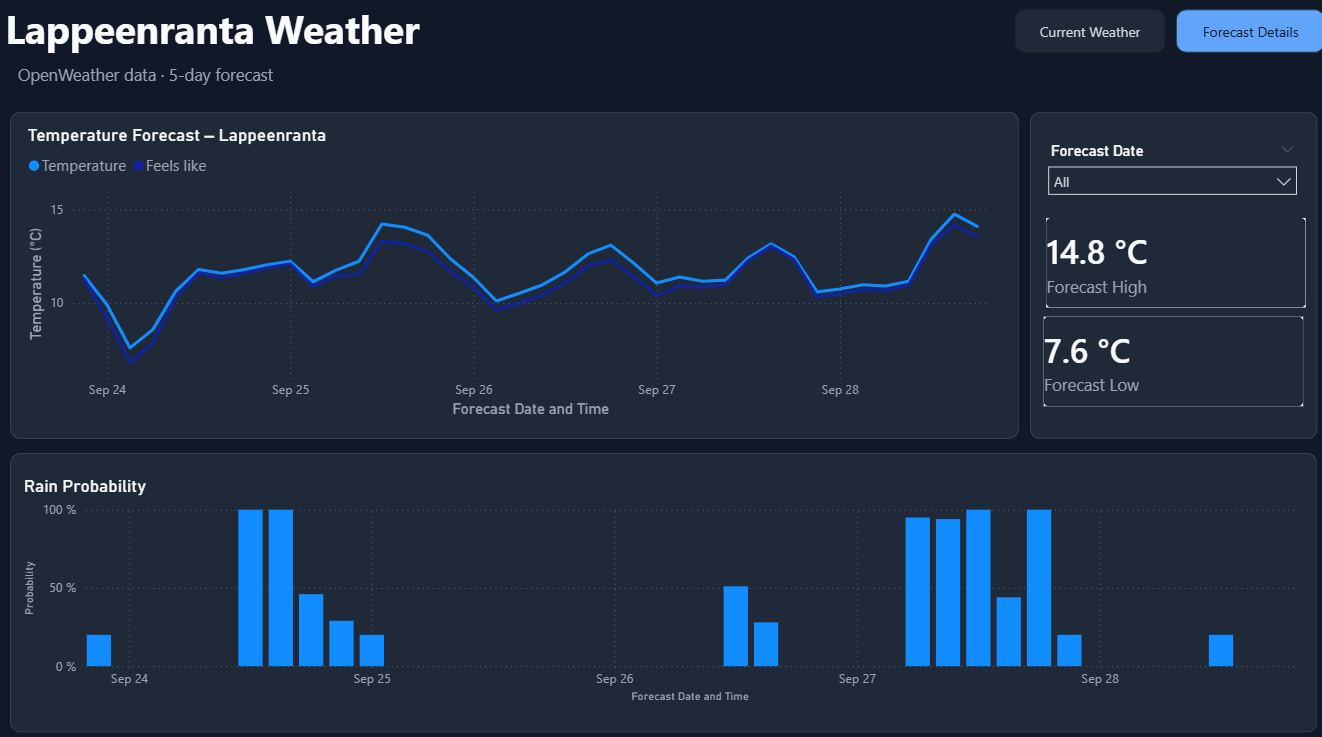

What the dashboard file says about the page in this screenshot:
{"tool":"powerbi","page":{"name":"Forecast Details","canvas":[1280,720],"ordinal":1},"visuals":[{"type":"shape","box":[9.7,109.9,973.9,315.8],"z":0},{"type":"shape","box":[994.1,109.8,277.5,316.1],"z":1000},{"type":"shape","box":[9.7,439.7,1261.9,269.9],"z":2000},{"type":"lineChart","title":"Temperature Forecast – Lappeenranta","fields":{"Y":["Avg(ForecastWeather.TemperatureC)","Avg(ForecastWeather.FeelsLikeC)"],"Category":["ForecastWeather.ForecastLocalTime"]},"box":[22.3,122.4,944.7,288],"z":3000},{"type":"clusteredColumnChart","title":"Rain Probability","fields":{"Category":["ForecastWeather.ForecastLocalTime"],"Y":["Avg(ForecastWeather.PrecipitationProbability)"]},"box":[18.1,460.5,1243.8,224],"z":4000},{"type":"slicer","fields":{"Values":["ForecastWeather.Forecast Date"]},"box":[1001.7,133.6,260.2,73.7],"z":5000},{"type":"cardVisual","fields":{"Data":["ForecastWeather.Forecast High"]},"box":[1004.5,207.3,260.2,96],"z":6000},{"type":"cardVisual","fields":{"Data":["ForecastWeather.Forecast Low"]},"box":[1003.1,303.3,260.2,96],"z":7000},{"type":"pageNavigator","box":[979.6,10.9,300.4,42.2],"z":8000},{"type":"textbox","box":[12.5,58.4,758.3,41.7],"z":10000},{"type":"textbox","box":[0,0,758.4,67],"z":11000}]}

Visuals, with their boxes in screenshot pixels (x1, y1, x2, y2), scaled from the page's 1280x720 canvas onto the 1322x737 screenshot:
shape: (x1=10, y1=112, x2=1016, y2=436)
shape: (x1=1027, y1=112, x2=1313, y2=436)
shape: (x1=10, y1=450, x2=1313, y2=726)
"Temperature Forecast – Lappeenranta" lineChart: (x1=23, y1=125, x2=999, y2=420)
"Rain Probability" clusteredColumnChart: (x1=19, y1=471, x2=1303, y2=701)
slicer - ForecastWeather.Forecast Date: (x1=1035, y1=137, x2=1303, y2=212)
cardVisual - ForecastWeather.Forecast High: (x1=1037, y1=212, x2=1306, y2=310)
cardVisual - ForecastWeather.Forecast Low: (x1=1036, y1=310, x2=1305, y2=409)
pageNavigator: (x1=1012, y1=11, x2=1321, y2=54)
textbox: (x1=13, y1=60, x2=796, y2=102)
textbox: (x1=0, y1=0, x2=783, y2=69)
